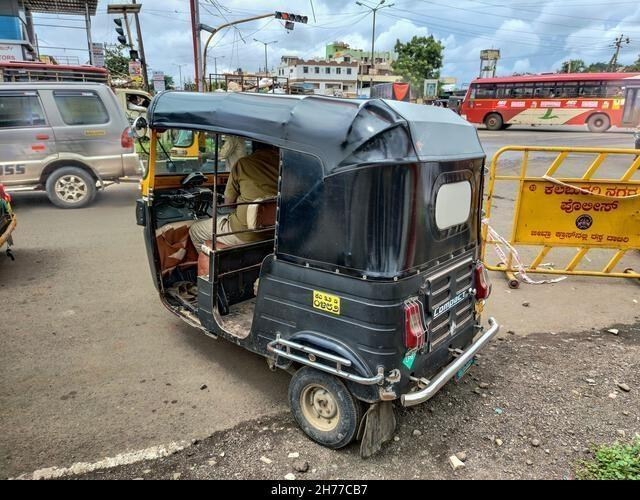keke: (138, 84, 500, 462)
